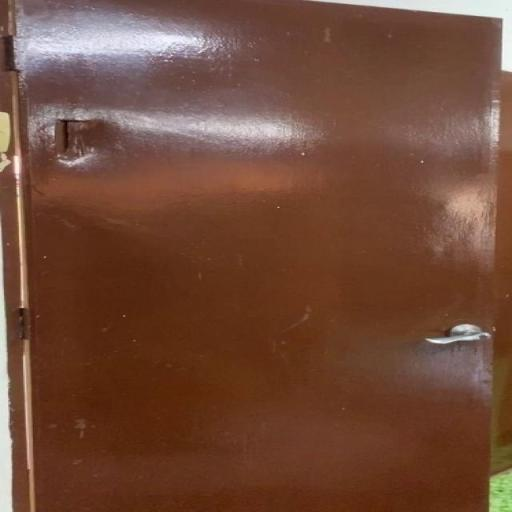door: (5, 1, 505, 510)
